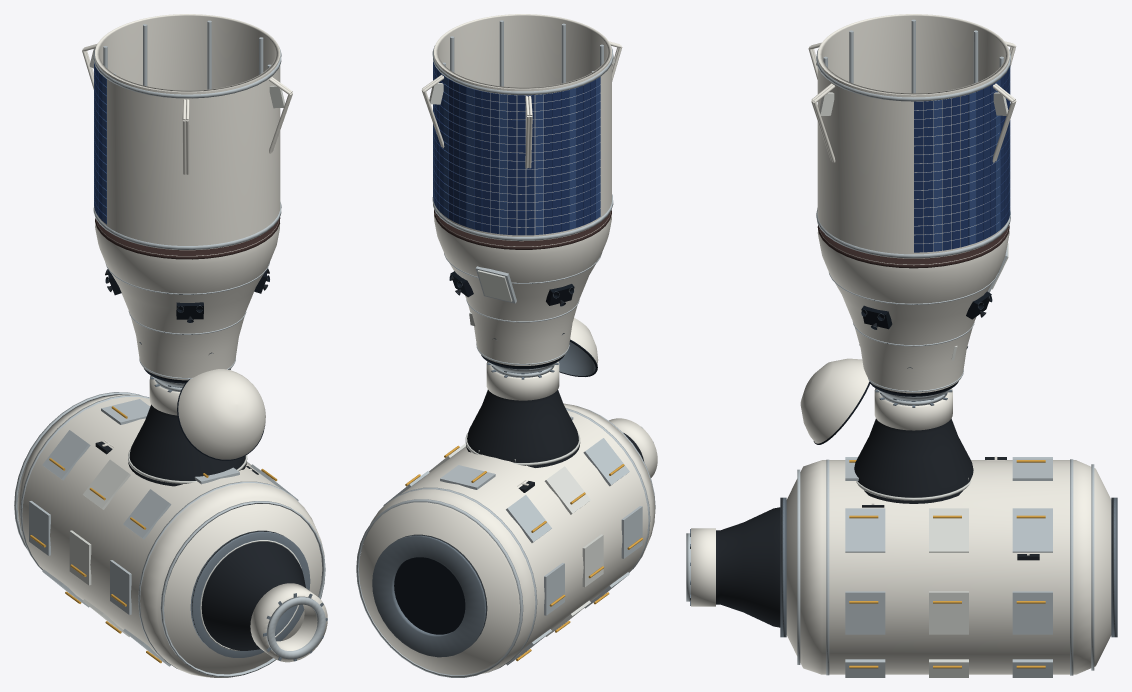
Rendered from dragon_harmony_detail.glb.
The picture shows the model from 3 angles, left to right: view 1: azimuth 30°, elevation 25°; view 2: azimuth 150°, elevation 25°; view 3: azimuth 270°, elevation 25°; orthographic projection. The views are drawn at different scales.
Visible parts, largest first — view 1: dragon_trunk.mesh_Warm_white_enamel, harmony.mesh_Warm_white_enamel, dragon_capsule.mesh_Warm_white_enamel, harmony.mesh_Satin_aluminum, iss_harmony_dock.pma_forward.mesh_Carbon_composite, dragon_nosecone.hinge.shell.mesh_Warm_white_enamel, iss_harmony_dock.pma_zenith.mesh_Carbon_composite, harmony.axial_hatch_b.mesh_Machined_steel, dragon_trunk.mesh_Satin_aluminum, iss_harmony_dock.pma_forward.ida_forward.mesh_Warm_white_ena, harmony.mesh_Pale_thermal_blanket, dragon_capsule.heat_shield.mesh_Ablative_thermal_protection (+8 smaller); view 2: harmony.mesh_Warm_white_enamel, dragon_trunk.body_solar_array.mesh_Indigo_solar_cells, dragon_trunk.mesh_Warm_white_enamel, dragon_capsule.mesh_Warm_white_enamel, harmony.mesh_Satin_aluminum, harmony.axial_hatch_a.mesh_Machined_steel, dragon_trunk.body_solar_array.mesh_Blue_photovoltaic_cells, iss_harmony_dock.pma_zenith.mesh_Carbon_composite, harmony.axial_hatch_a.mesh_Shadowed_interior, dragon_trunk.mesh_Satin_aluminum, harmony.mesh_Pale_thermal_blanket, iss_harmony_dock.pma_zenith.ida_zenith.mesh_Warm_white_ename (+8 smaller); view 3: harmony.mesh_Warm_white_enamel, dragon_trunk.mesh_Warm_white_enamel, dragon_capsule.mesh_Warm_white_enamel, harmony.mesh_Satin_aluminum, dragon_trunk.body_solar_array.mesh_Indigo_solar_cells, iss_harmony_dock.pma_zenith.mesh_Carbon_composite, iss_harmony_dock.pma_forward.mesh_Carbon_composite, harmony.mesh_Pale_thermal_blanket, dragon_nosecone.hinge.shell.mesh_Warm_white_enamel, dragon_trunk.body_solar_array.mesh_Blue_photovoltaic_cells, dragon_trunk.mesh_Satin_aluminum, iss_harmony_dock.pma_zenith.ida_zenith.mesh_Warm_white_ename (+6 smaller).
Part boxes in pixels (x1,y1,x2,y2): dragon_trunk.mesh_Warm_white_enamel: (95, 14, 280, 250); harmony.mesh_Warm_white_enamel: (17, 394, 324, 677); dragon_capsule.mesh_Warm_white_enamel: (95, 220, 280, 380); harmony.mesh_Satin_aluminum: (14, 392, 325, 677); iss_harmony_dock.pma_forward.mesh_Carbon_composite: (201, 541, 305, 650); dragon_nosecone.hinge.shell.mesh_Warm_white_enamel: (178, 369, 265, 459); iss_harmony_dock.pma_zenith.mesh_Carbon_composite: (128, 404, 246, 486); harmony.axial_hatch_b.mesh_Machined_steel: (190, 530, 310, 657); dragon_trunk.mesh_Satin_aluminum: (93, 20, 281, 249); iss_harmony_dock.pma_forward.ida_forward.mesh_Warm_white_ena: (250, 583, 327, 662); harmony.mesh_Pale_thermal_blanket: (69, 459, 250, 636); dragon_capsule.heat_shield.mesh_Ablative_thermal_protection: (95, 217, 280, 259); harmony.mesh_Warm_white_enamel: (359, 403, 655, 674); dragon_trunk.body_solar_array.mesh_Indigo_solar_cells: (433, 61, 595, 235); dragon_trunk.mesh_Warm_white_enamel: (433, 14, 611, 241); dragon_capsule.mesh_Warm_white_enamel: (434, 212, 611, 365); harmony.mesh_Satin_aluminum: (356, 405, 655, 677); harmony.axial_hatch_a.mesh_Machined_steel: (372, 534, 487, 657); dragon_trunk.body_solar_array.mesh_Blue_photovoltaic_cells: (433, 62, 600, 234); iss_harmony_dock.pma_zenith.mesh_Carbon_composite: (466, 390, 579, 467); harmony.axial_hatch_a.mesh_Shadowed_interior: (394, 557, 465, 634); dragon_trunk.mesh_Satin_aluminum: (432, 20, 613, 240); harmony.mesh_Pale_thermal_blanket: (429, 443, 603, 636); iss_harmony_dock.pma_zenith.ida_zenith.mesh_Warm_white_ename: (486, 361, 559, 400); harmony.mesh_Warm_white_enamel: (786, 460, 1111, 674); dragon_trunk.mesh_Warm_white_enamel: (817, 14, 1009, 258); dragon_capsule.mesh_Warm_white_enamel: (817, 226, 1009, 393); harmony.mesh_Satin_aluminum: (797, 457, 1094, 677); dragon_trunk.body_solar_array.mesh_Indigo_solar_cells: (914, 68, 1009, 252); iss_harmony_dock.pma_zenith.mesh_Carbon_composite: (854, 418, 973, 503); iss_harmony_dock.pma_forward.mesh_Carbon_composite: (716, 507, 780, 627); harmony.mesh_Pale_thermal_blanket: (929, 478, 968, 677); dragon_nosecone.hinge.shell.mesh_Warm_white_enamel: (800, 358, 869, 443); dragon_trunk.body_solar_array.mesh_Blue_photovoltaic_cells: (933, 65, 1010, 251); dragon_trunk.mesh_Satin_aluminum: (816, 19, 1010, 258); iss_harmony_dock.pma_zenith.ida_zenith.mesh_Warm_white_ename: (874, 388, 952, 430).
Bounding box in the file's own units: 4.64 × 14.02 × 8.92.
